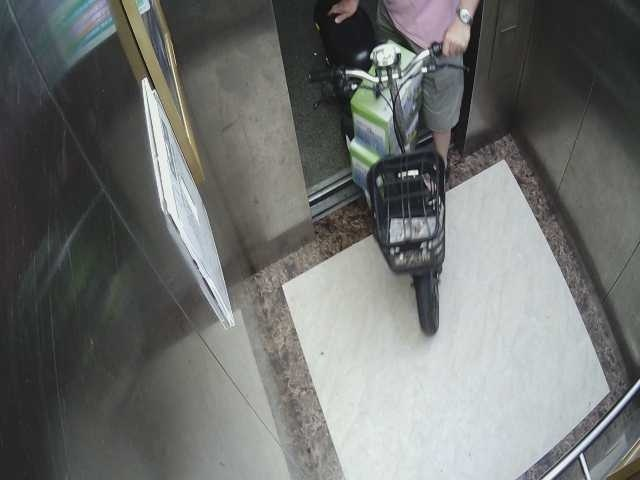emotor: (298, 7, 466, 344)
